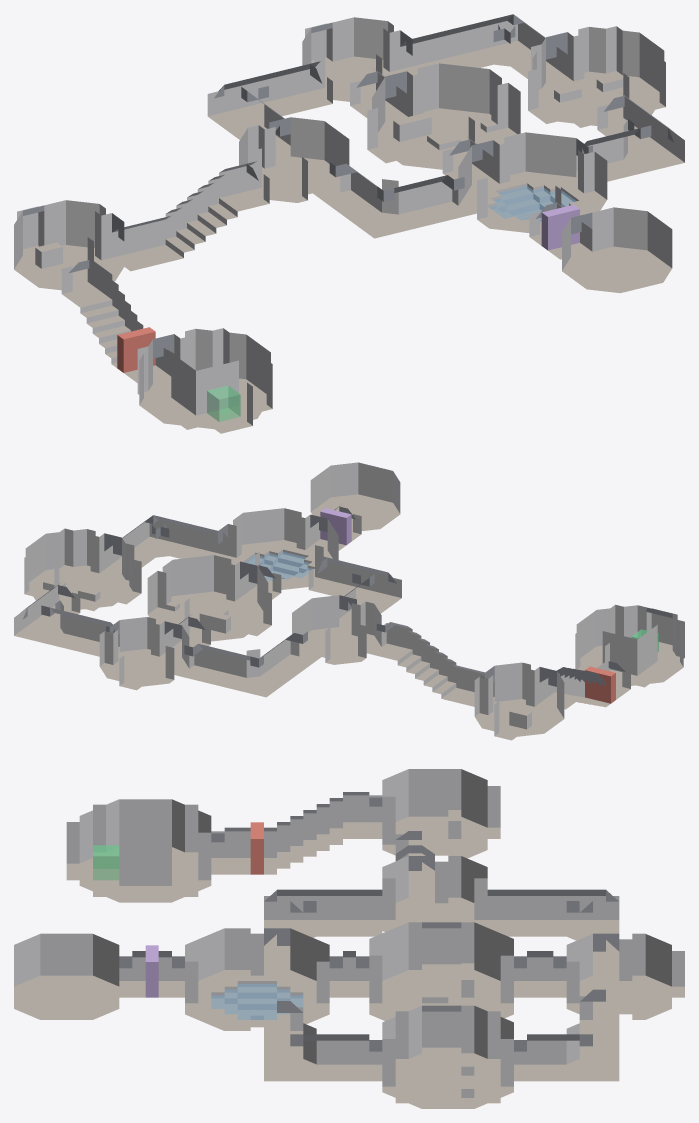
File: pod_mining_02.glb
3 renders of one model, top to bottom at view 1: azimuth 30°, elevation 25°; view 2: azimuth 150°, elevation 25°; view 3: azimuth 270°, elevation 25°, orthographic. The views are drawn at different scales.
Parts seen in each view (by area): view 1: room:6, room:1, room:7, room:5, corridor:3, room:2, corridor:2, corridor:0, corridor:7, room:4, room:3, corridor:1 (+20 smaller); view 2: room:6, room:1, corridor:7, room:7, room:5, room:4, corridor:3, room:3, room:2, corridor:0, room:0, corridor:1 (+19 smaller); view 3: room:5, room:1, room:6, room:7, room:2, room:4, corridor:4, corridor:7, corridor:1, room:0, corridor:0, corridor:2 (+21 smaller).
Boxes of the visible parts, left/top/right/bottom form: room:6: left=372, top=63, right=520, bottom=170; room:1: left=531, top=26, right=665, bottom=127; room:7: left=562, top=207, right=672, bottom=293; room:5: left=137, top=328, right=272, bottom=429; corridor:3: left=112, top=161, right=269, bottom=271; room:2: left=458, top=132, right=607, bottom=234; corridor:2: left=319, top=162, right=470, bottom=238; corridor:0: left=400, top=14, right=567, bottom=81; corridor:7: left=207, top=61, right=332, bottom=159; room:4: left=14, top=200, right=124, bottom=291; room:3: left=239, top=117, right=349, bottom=202; corridor:1: left=576, top=92, right=684, bottom=181; room:6: left=147, top=555, right=268, bottom=642; room:1: left=24, top=528, right=134, bottom=611; corridor:7: left=179, top=631, right=315, bottom=697; room:7: left=310, top=462, right=400, bottom=531; room:5: left=575, top=604, right=684, bottom=687; room:4: left=474, top=662, right=564, bottom=736; corridor:3: left=372, top=622, right=494, bottom=706; room:3: left=292, top=595, right=381, bottom=664; room:2: left=218, top=508, right=338, bottom=590; corridor:0: left=14, top=584, right=119, bottom=656; room:0: left=99, top=617, right=189, bottom=686; corridor:1: left=104, top=515, right=227, bottom=573; room:5: left=79, top=799, right=211, bottom=902; room:1: left=382, top=1005, right=513, bottom=1108; room:6: left=369, top=922, right=513, bottom=1020; room:7: left=14, top=933, right=119, bottom=1019; room:2: left=185, top=928, right=329, bottom=1030; room:4: left=382, top=769, right=487, bottom=858; corridor:4: left=211, top=792, right=382, bottom=874; corridor:7: left=487, top=889, right=619, bottom=975; corridor:1: left=264, top=1001, right=382, bottom=1081; room:0: left=566, top=933, right=671, bottom=1019; corridor:0: left=514, top=989, right=619, bottom=1081; corridor:2: left=264, top=889, right=382, bottom=969.
Bounding box in the file's own units: 60 × 10 × 51.
